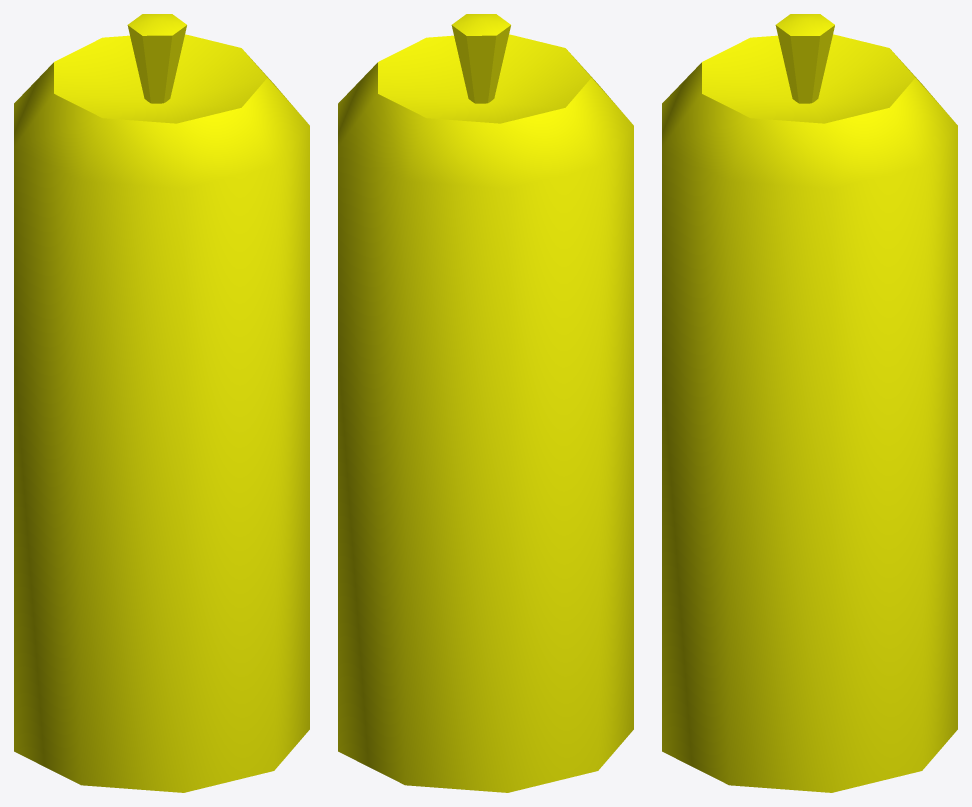
Rendered from kaykit-halloween-candle.glb.
3 renders of one model, left to right at view 1: azimuth 30°, elevation 25°; view 2: azimuth 150°, elevation 25°; view 3: azimuth 270°, elevation 25°, orthographic.
Parts seen in each view (by area): view 1: candle; view 2: candle; view 3: candle.
Part boxes in pixels (box(x1,y1,x2,y2)): candle: box(14, 14, 309, 792); candle: box(338, 14, 633, 792); candle: box(662, 14, 957, 792).
Size of the model in its own units: 0.3009 by 0.7857 by 0.2964.
